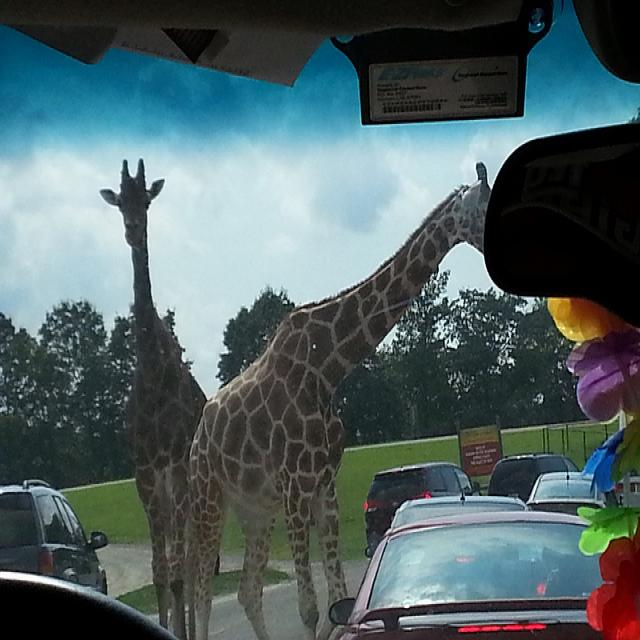Vehicle: (335, 502, 602, 626), (0, 478, 108, 595), (364, 461, 482, 559), (487, 452, 582, 504), (390, 493, 529, 528), (526, 471, 607, 511)
